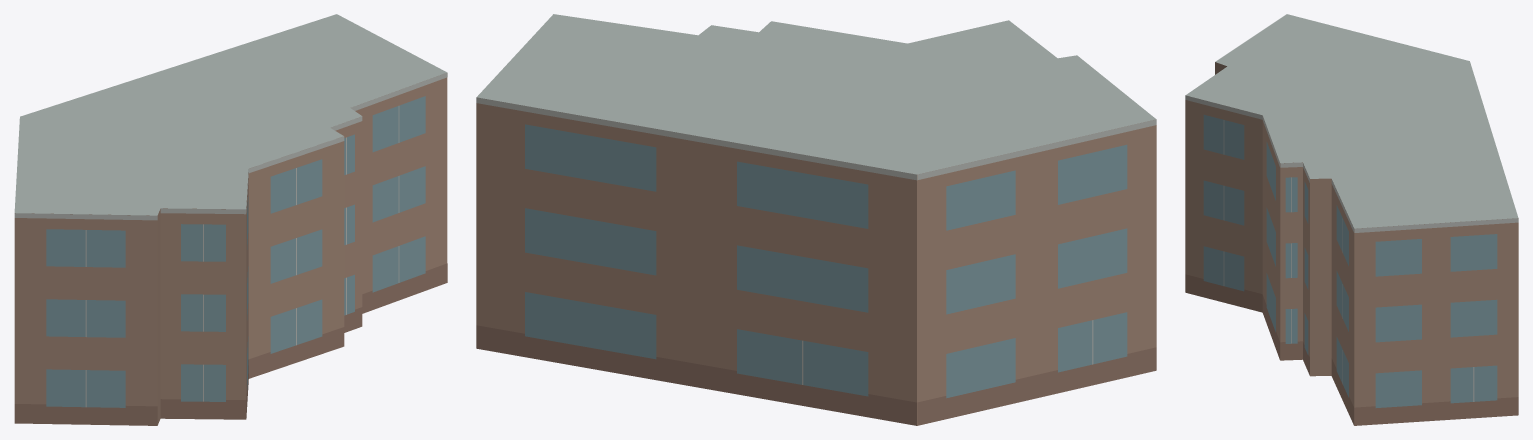
The model's file is survey-upis-32580645.glb.
3 renders of one model, left to right at view 1: azimuth 30°, elevation 25°; view 2: azimuth 150°, elevation 25°; view 3: azimuth 270°, elevation 25°, orthographic. The views are drawn at different scales.
Parts seen in each view (by area): view 1: survey-upis-32580645.tmp; view 2: survey-upis-32580645.tmp; view 3: survey-upis-32580645.tmp.
Boxes of the visible parts, x1,y1,x2,y2 form: survey-upis-32580645.tmp: (14, 14, 447, 425); survey-upis-32580645.tmp: (476, 14, 1156, 425); survey-upis-32580645.tmp: (1185, 14, 1518, 425).
Size of the model in its own units: 24.85 by 10.65 by 16.3.
